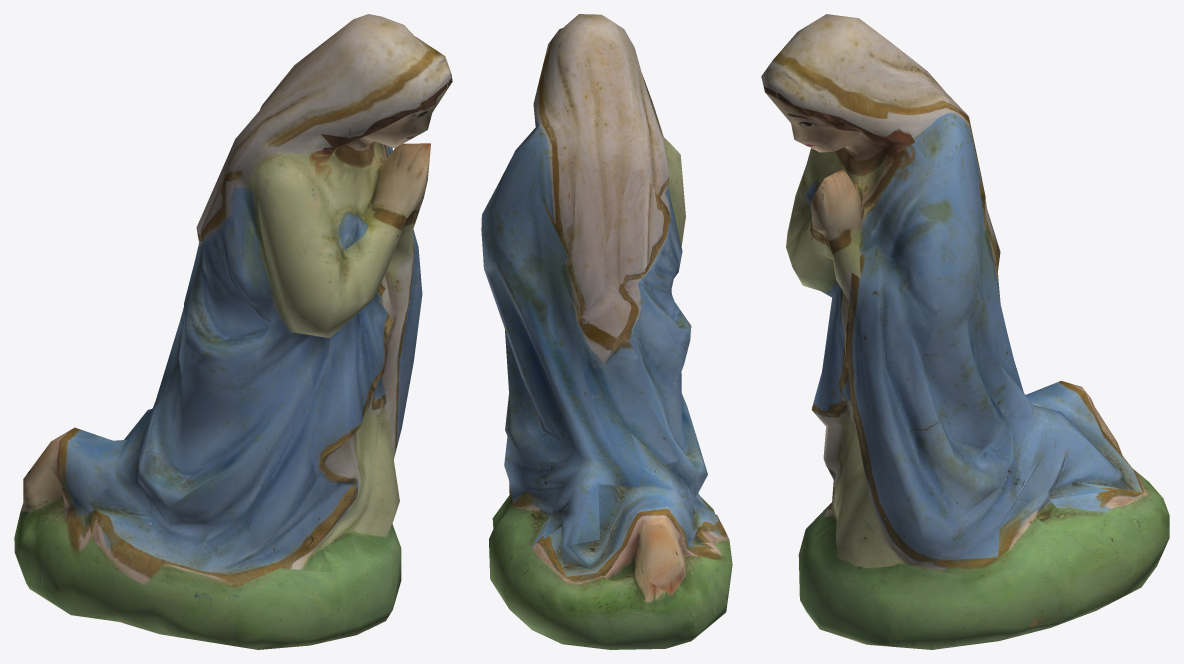
The model's file is mariaBaixRes.obj.
3 renders of one model, left to right at view 1: azimuth 30°, elevation 25°; view 2: azimuth 150°, elevation 25°; view 3: azimuth 270°, elevation 25°, orthographic. The views are drawn at different scales.
Visible parts, largest first — view 1: SMaria_LP2; view 2: SMaria_LP2; view 3: SMaria_LP2.
Boxes of the visible parts, box(x1,y1,x2,y2) form: SMaria_LP2: box(14, 14, 452, 649); SMaria_LP2: box(481, 14, 732, 649); SMaria_LP2: box(761, 14, 1169, 649).
Size of the model in its own units: 0.1101 by 0.1969 by 0.1195.
Materials: 1 (1 with a texture image).
